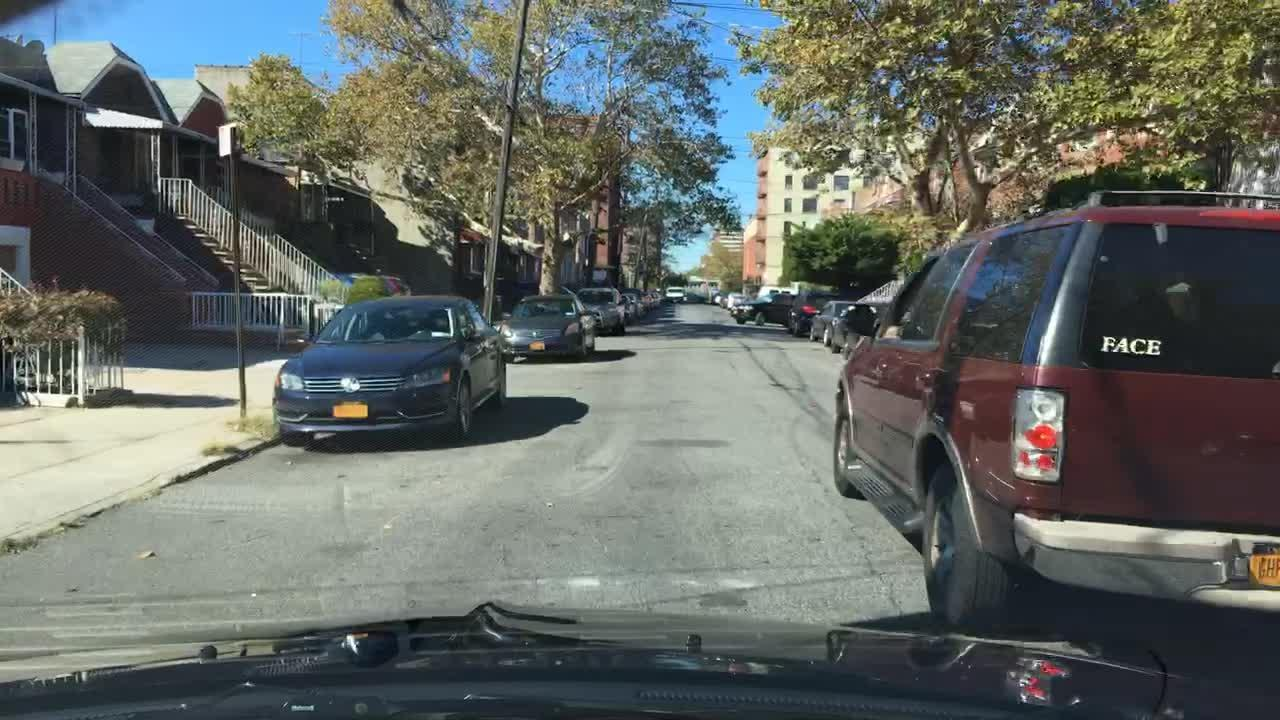Volkswagen: (339, 375, 363, 395)
